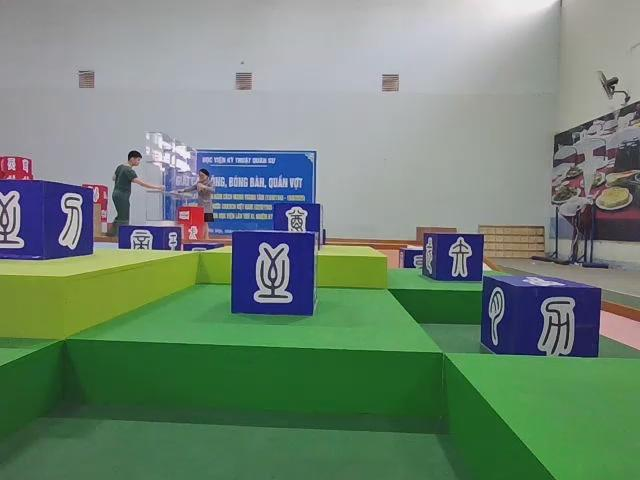R2 Fake Blue: (482, 275, 603, 359), (1, 179, 96, 262), (231, 231, 318, 317), (421, 234, 482, 284), (118, 224, 181, 250), (272, 202, 320, 234)
